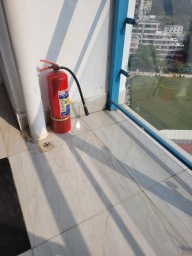fire_extinguisher: (45, 137, 101, 206), (53, 160, 101, 195)
